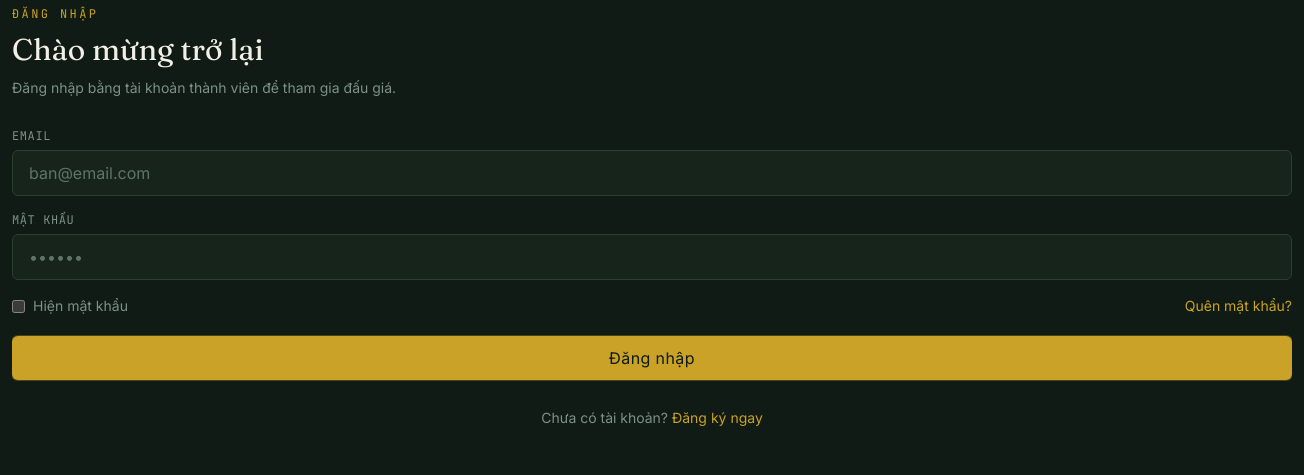
Test: LoginPage › renders the generic invalid-credential error without exposing rejected credentials
Type "person@example.test" into the field labelled "Email".
click(652, 173); type("person@example.test")  # box [12,150,1292,196]
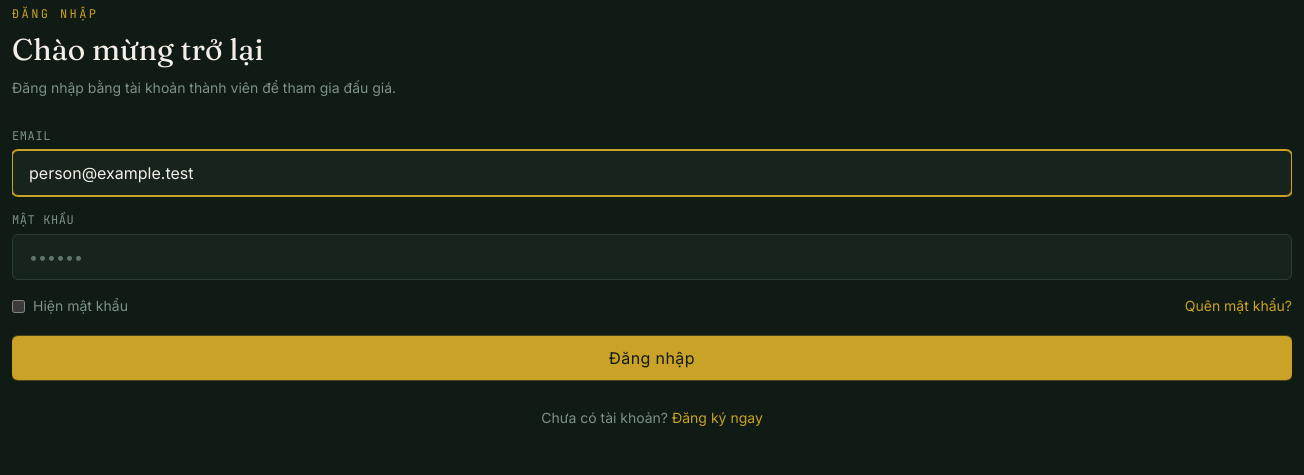
Type "top-secret-password" into the password field labelled "Mật khẩu".
click(652, 257); type("top-secret-password")  # box [12,234,1292,280]
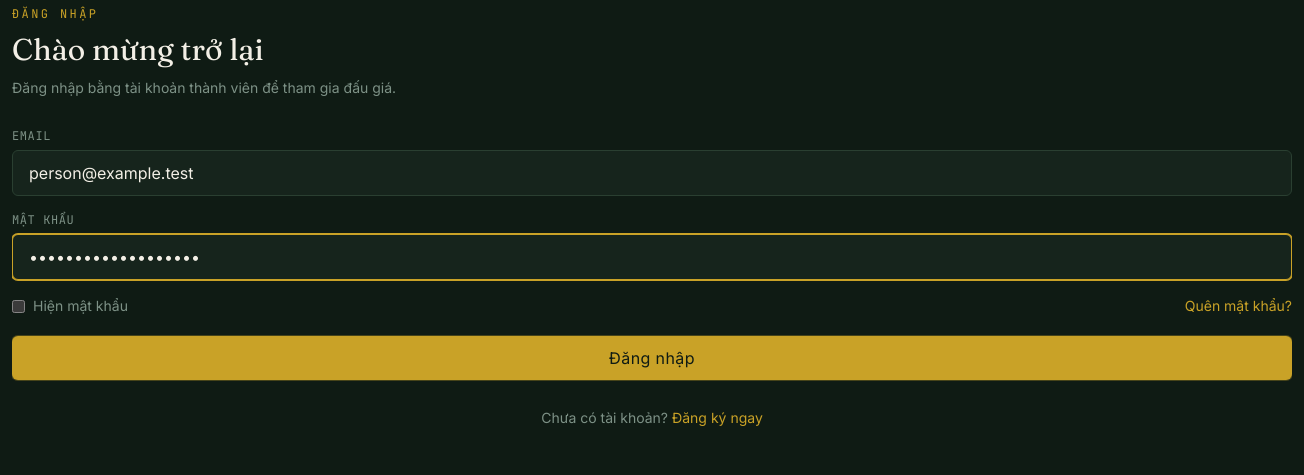
Click the button "Đăng nhập".
click(652, 358)  # box [12,336,1292,380]
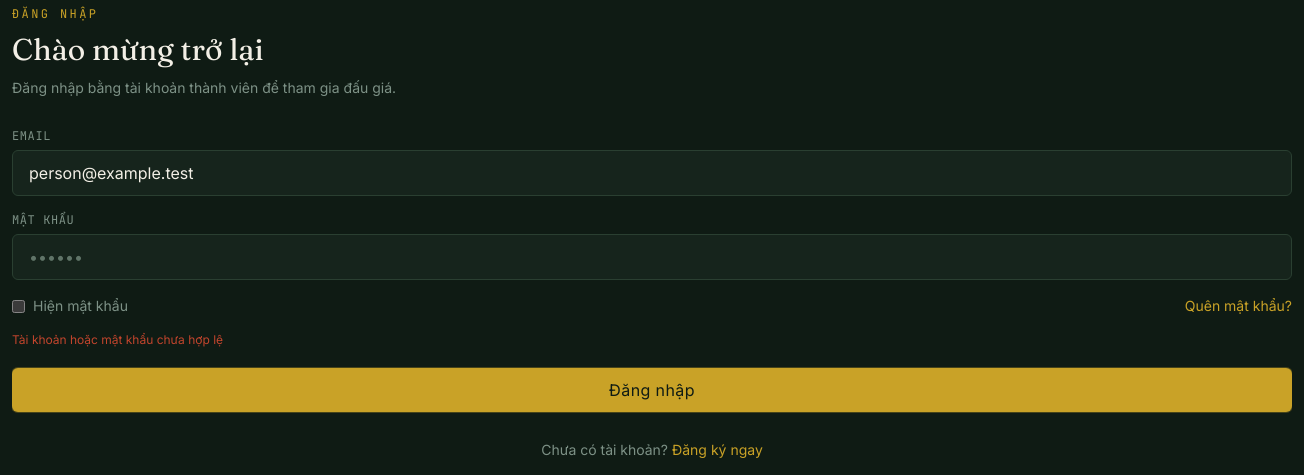
Now the message reads "Tài khoản hoặc mật khẩu chưa hợp lệ", box [12,332,223,347]
